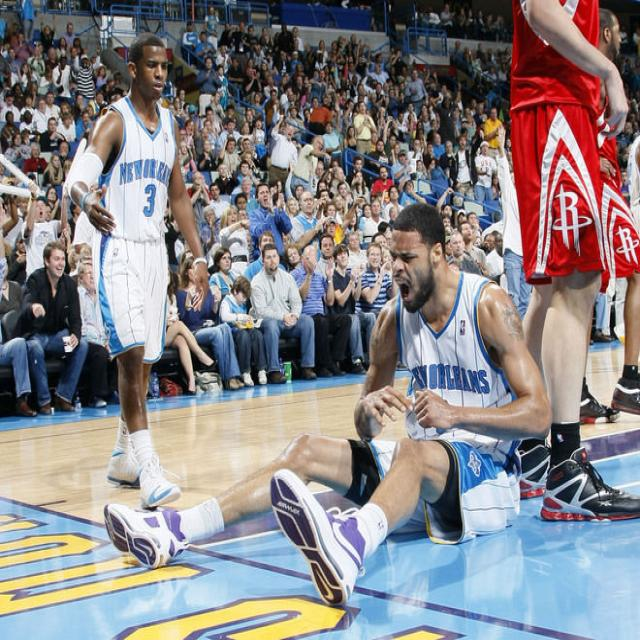10-: (1, 0, 639, 535)
down: (98, 198, 557, 610)
